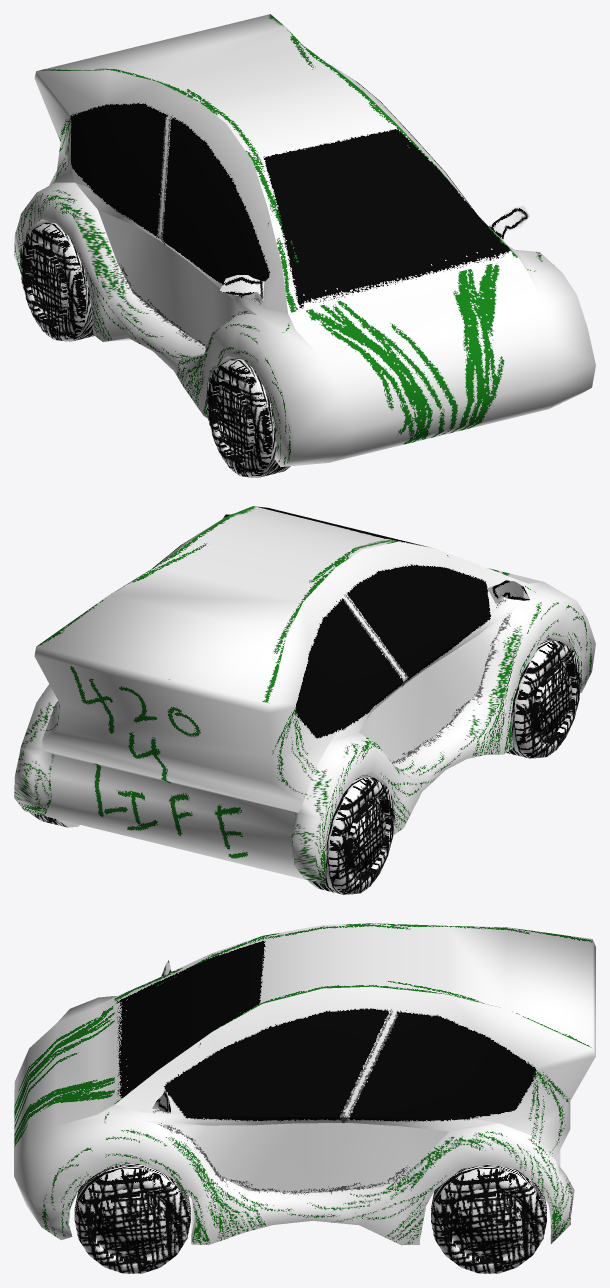
The model's file is car-small-mesh.FBX.
3 views of the same model, one above another, from view 1: azimuth 30°, elevation 25°; view 2: azimuth 150°, elevation 25°; view 3: azimuth 270°, elevation 25° (orthographic). The views are drawn at different scales.
Visible parts, largest first — view 1: Box002; view 2: Box002; view 3: Box002.
Part boxes in pixels (x1,y1,x2,y2): Box002: [14, 14, 595, 477]; Box002: [14, 506, 595, 894]; Box002: [14, 923, 595, 1273].
Bounding box in the file's own units: 1.34 × 1.03 × 2.2.
1 material, 1 textured.
